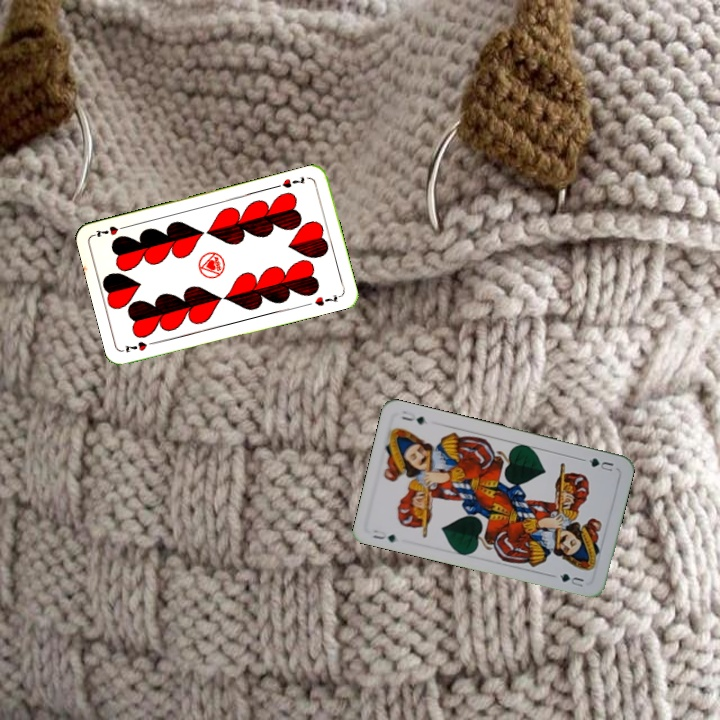GU: (584, 454, 616, 474), (368, 526, 398, 545)
H7: (121, 337, 160, 355), (278, 172, 307, 191)
